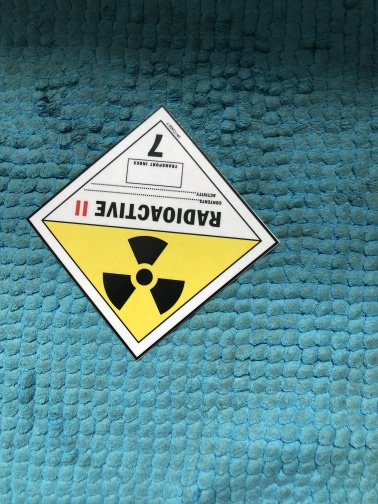Radioactive: (30, 108, 275, 359)
